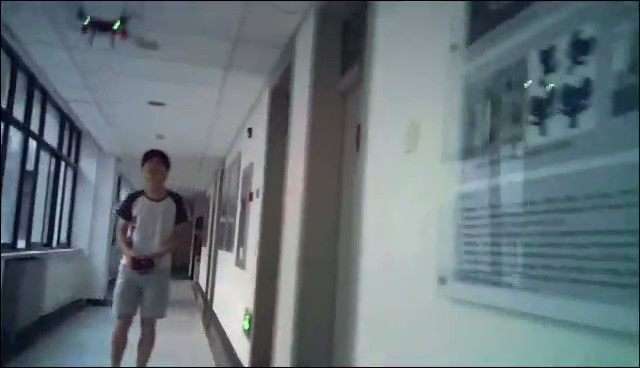drone: (64, 1, 149, 50)
person: (108, 147, 193, 368)
